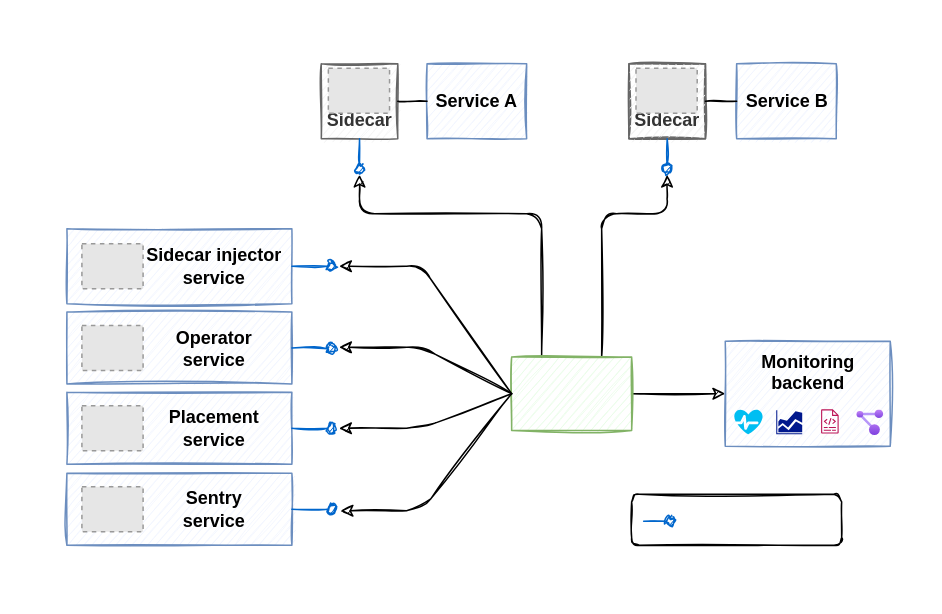
This 942x614 diagram has some shape labels left out. Grey dashed boxes stand in for pictures. Here are the shapes that lost their labels. From the top down, the centre of each, then its label:
At [571,393]: "Prometheus metrics scraper".
At [736,519]: "Metrics endpoint on port 9090".
